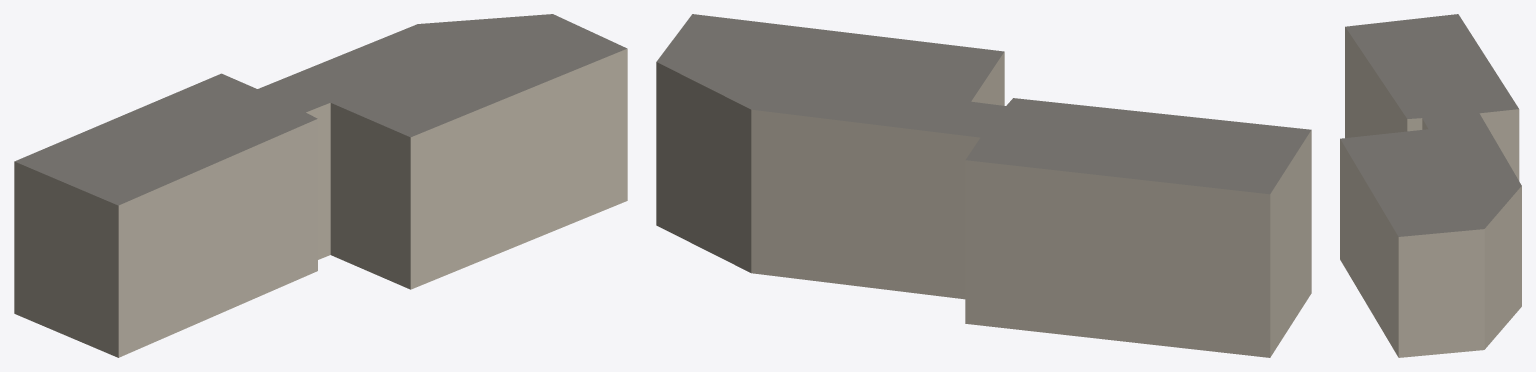
3 views of the same model, side by side, from view 1: azimuth 30°, elevation 25°; view 2: azimuth 150°, elevation 25°; view 3: azimuth 270°, elevation 25° (orthographic). The views are drawn at different scales.
Visible parts, largest first — view 1: HP-w757506898; view 2: HP-w757506898; view 3: HP-w757506898.
Boxes of the visible parts, left/top/right/bottom form: HP-w757506898: left=14, top=14, right=627, bottom=357; HP-w757506898: left=656, top=14, right=1311, bottom=357; HP-w757506898: left=1340, top=14, right=1521, bottom=357.
Size of the model in its own units: 71.16 by 18 by 24.5.
